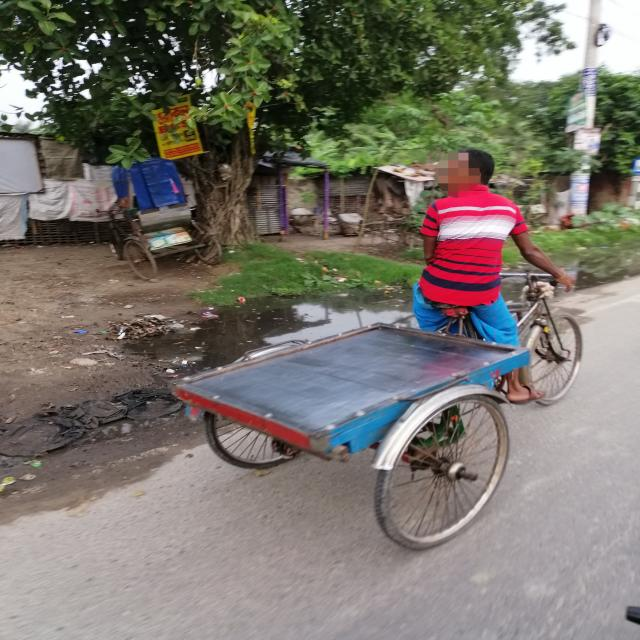Van: (167, 271, 606, 562)
